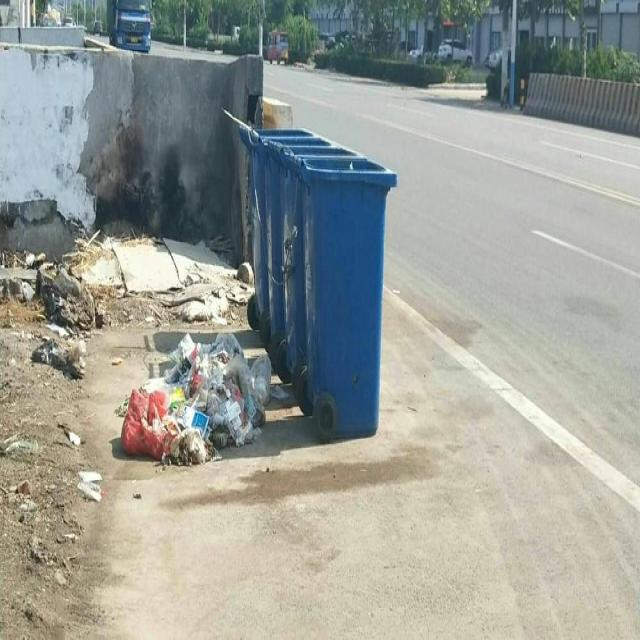garbage: (119, 326, 285, 470)
garbage_bin: (292, 156, 397, 437)
